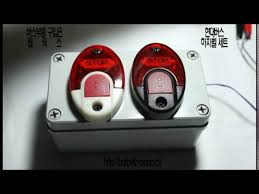bell: (69, 43, 127, 125)
